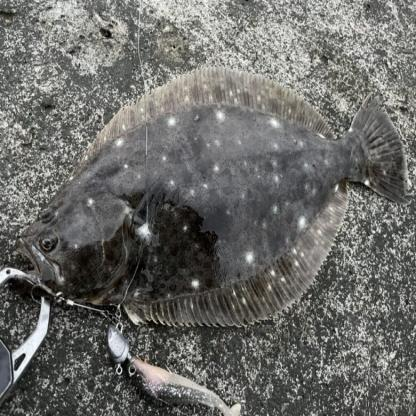flounder: (27, 51, 410, 347)
